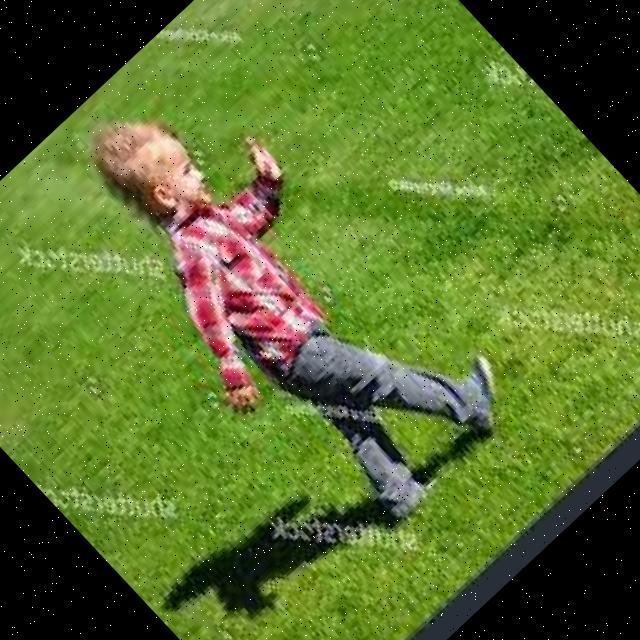Person: (31, 44, 528, 556)
